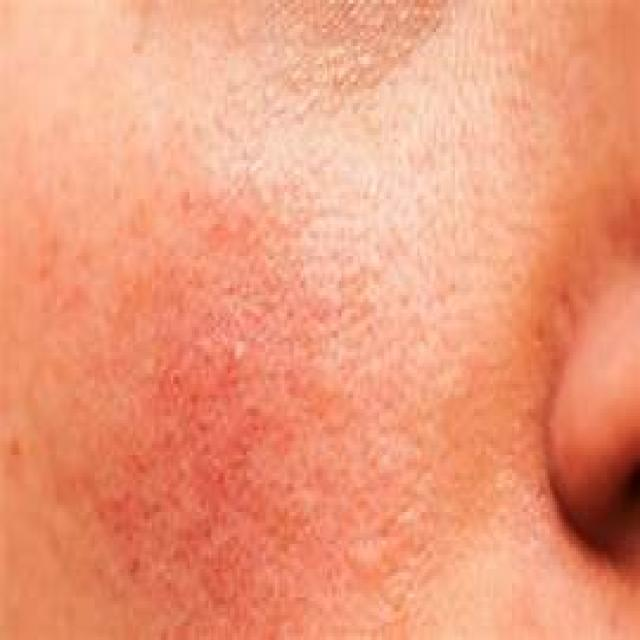Rosacea: (128, 319, 260, 583)
